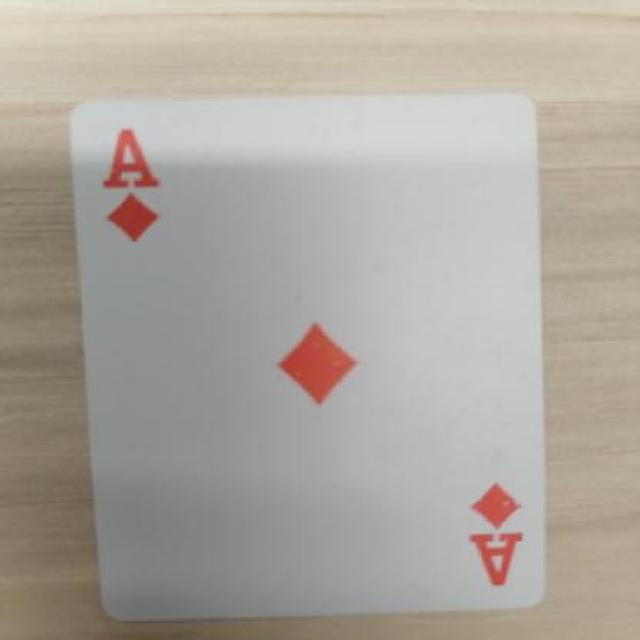AD: (88, 117, 184, 246), (442, 471, 542, 594)
